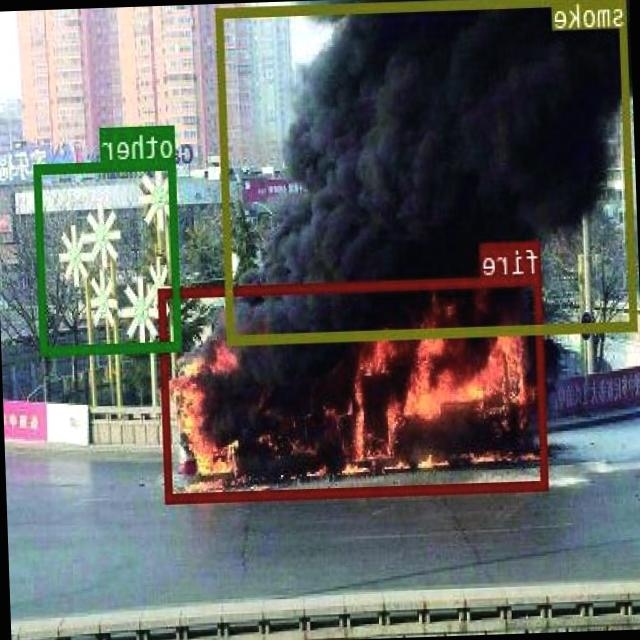fire: (160, 274, 548, 502)
smoke: (216, 0, 638, 342)
